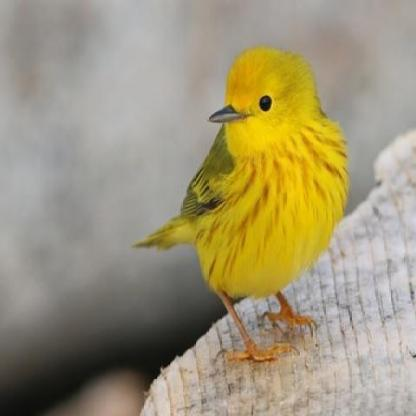other: (163, 48, 357, 309)
